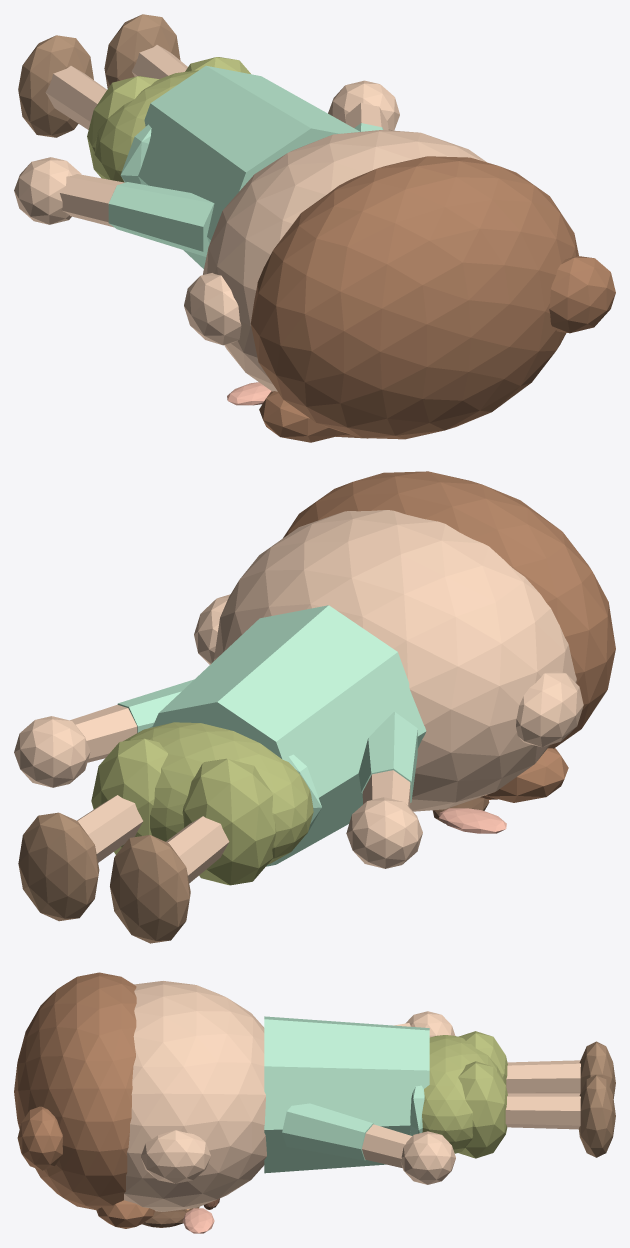
The model's file is stylized_chibi_character.glb.
3 renders of one model, top to bottom at view 1: azimuth 30°, elevation 25°; view 2: azimuth 150°, elevation 25°; view 3: azimuth 270°, elevation 25°, orthographic. The views are drawn at different scales.
Visible parts, largest first — view 1: Hair cap, T-shirt torso, Head, Left sleeve, Left shoe, Hair tuft, Shorts body, Left ear, Left hand, Right shoe, Left leg, Left arm (+8 smaller); view 2: Head, T-shirt torso, Hair cap, Shorts body, Shorts left leg, Right shoe, Left shoe, Left hand, Shorts right leg, Right hand, Left ear, Left sleeve (+8 smaller); view 3: Head, Hair cap, T-shirt torso, Shorts body, Right sleeve, Shorts right leg, Right ear, Right leg, Left leg, Right shoe, Right hand, Hair tuft (+8 smaller).
Boxes of the visible parts, <box> form: Hair cap: <box>250,156,578,439</box>; T-shirt torso: <box>138,65,359,268</box>; Head: <box>203,130,486,391</box>; Left sleeve: <box>108,182,214,256</box>; Left shoe: <box>18,35,93,137</box>; Hair tuft: <box>549,256,615,333</box>; Shorts body: <box>94,70,198,182</box>; Left ear: <box>184,273,241,345</box>; Left hand: <box>14,157,81,224</box>; Right shoe: <box>104,14,180,88</box>; Left leg: <box>45,66,106,129</box>; Left arm: <box>60,174,124,227</box>; Head: <box>214,510,576,811</box>; T-shirt torso: <box>152,605,426,866</box>; Hair cap: <box>283,471,615,748</box>; Shorts body: <box>123,722,313,864</box>; Shorts left leg: <box>182,758,276,885</box>; Right shoe: <box>18,812,99,921</box>; Left shoe: <box>110,835,190,943</box>; Left hand: <box>346,797,422,868</box>; Shorts right leg: <box>91,738,167,854</box>; Right hand: <box>14,716,90,787</box>; Left ear: <box>516,671,583,747</box>; Left sleeve: <box>358,712,417,802</box>; Head: <box>124,981,266,1211</box>; Hair cap: <box>14,972,136,1209</box>; T-shirt torso: <box>264,1016,429,1173</box>; Shorts body: <box>422,1035,503,1153</box>; Right sleeve: <box>282,1103,374,1160</box>; Shorts right leg: <box>458,1061,507,1158</box>; Right ear: <box>140,1130,210,1183</box>; Right leg: <box>505,1093,580,1129</box>; Left leg: <box>506,1060,580,1093</box>; Right shoe: <box>578,1074,615,1157</box>; Right hand: <box>401,1131,455,1184</box>; Hair tuft: <box>17,1106,62,1170</box>.
Bounding box in the file's own units: 1.92 × 1.49 × 3.39.
